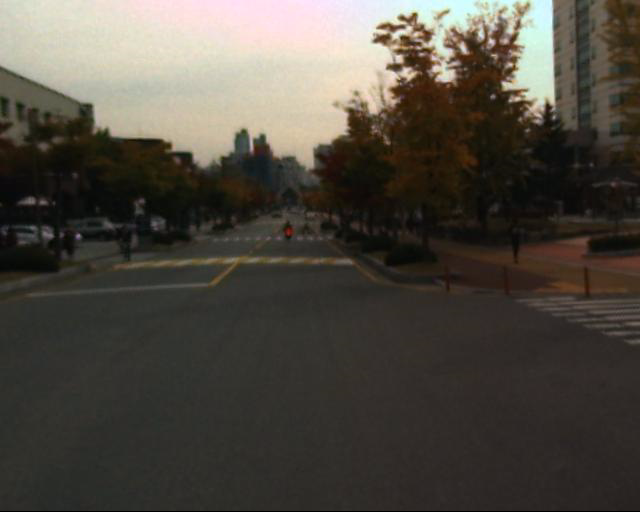person: (505, 215, 525, 265)
